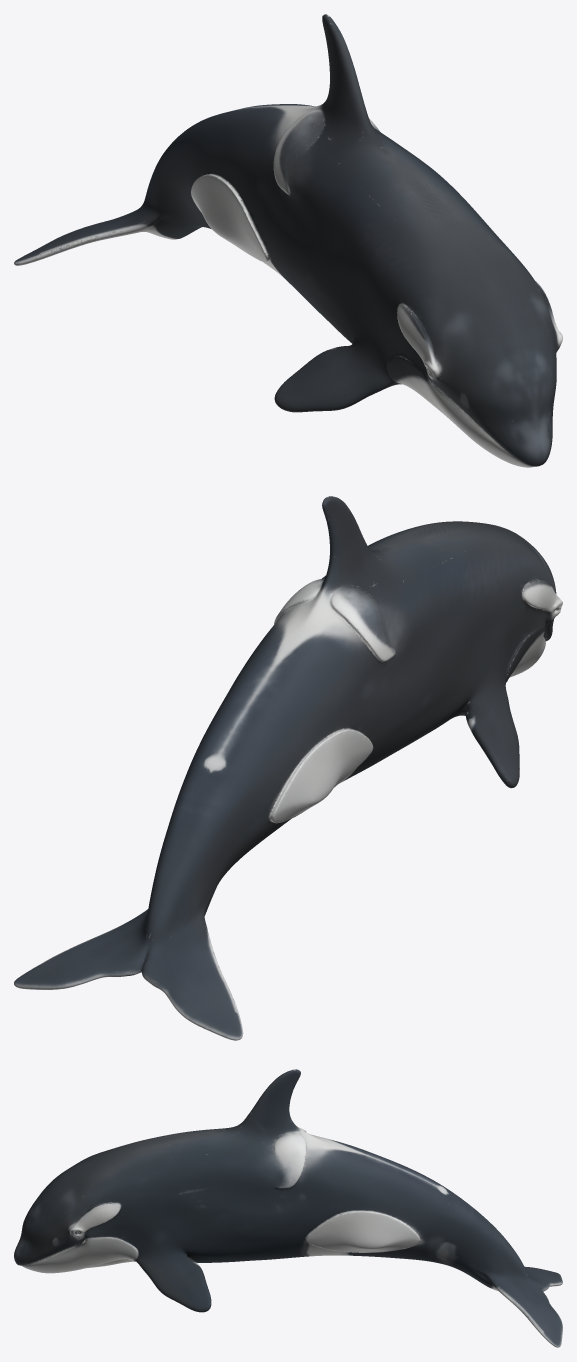
The model's file is dolphin.glb.
3 views of the same model, one above another, from view 1: azimuth 30°, elevation 25°; view 2: azimuth 150°, elevation 25°; view 3: azimuth 270°, elevation 25° (orthographic). The views are drawn at different scales.
Size of the model in its own units: 0.6597 by 0.9753 by 2.
1 material, 1 textured.
